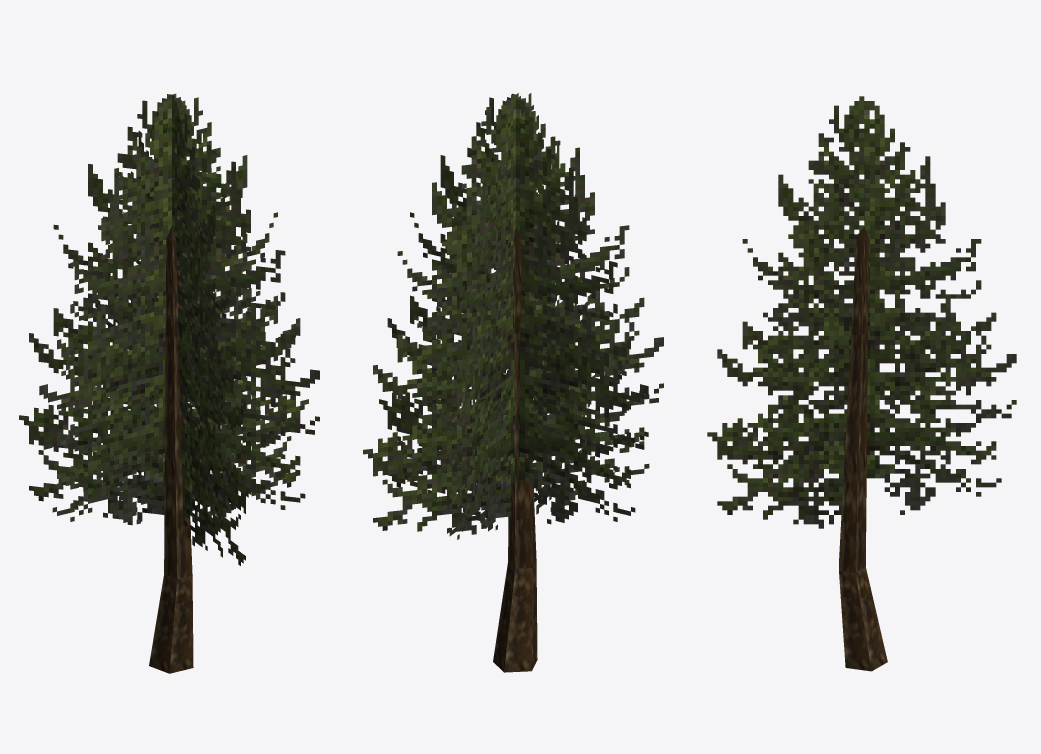
The model's file is tree.glb.
3 renders of one model, left to right at view 1: azimuth 30°, elevation 25°; view 2: azimuth 150°, elevation 25°; view 3: azimuth 270°, elevation 25°, orthographic.
Visible parts, largest first — view 1: Ps1Tree3Texture.001, Ps1Tree3Texture.003, Ps1Tree3Texture, Trunk.002; view 2: Ps1Tree3Texture.002, Ps1Tree3Texture.001, Ps1Tree3Texture, Trunk.002; view 3: Ps1Tree3Texture, Trunk.002.
Part boxes in pixels (<box>): Ps1Tree3Texture.001: <box>39,93,308,524</box>; Ps1Tree3Texture.003: <box>19,94,319,525</box>; Ps1Tree3Texture: <box>95,95,251,565</box>; Trunk.002: <box>149,226,193,673</box>; Ps1Tree3Texture.002: <box>363,94,663,534</box>; Ps1Tree3Texture.001: <box>379,93,648,524</box>; Ps1Tree3Texture: <box>439,93,594,539</box>; Trunk.002: <box>493,226,537,672</box>; Ps1Tree3Texture: <box>707,96,1016,528</box>; Trunk.002: <box>839,227,887,671</box>.
Size of the model in its own units: 2.36 by 4.73 by 2.36.
2 materials, 2 textured.
